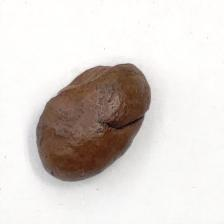NG: (55, 63, 133, 95), (96, 108, 150, 132)
